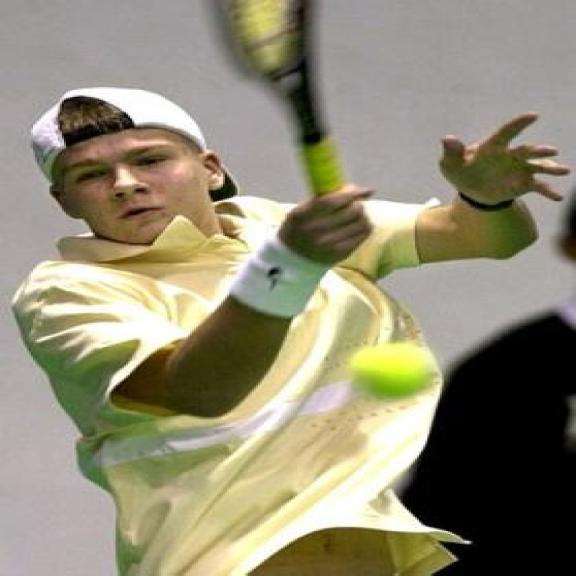face: (50, 133, 224, 246)
